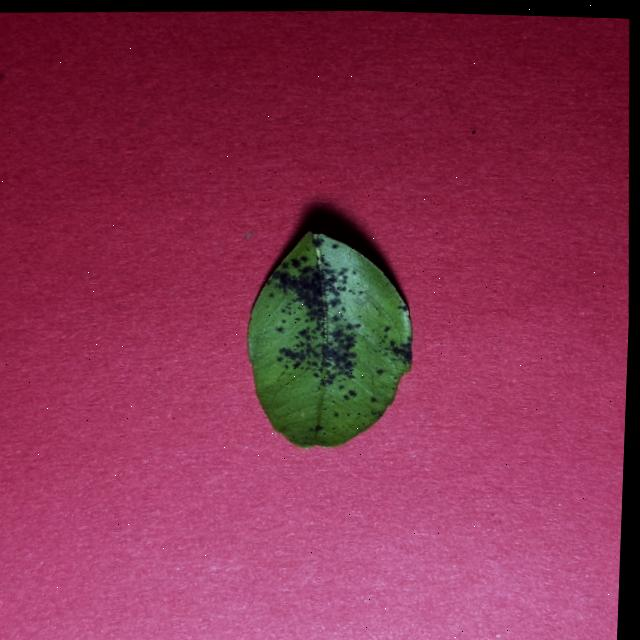sooty_mold: (247, 231, 410, 446)
